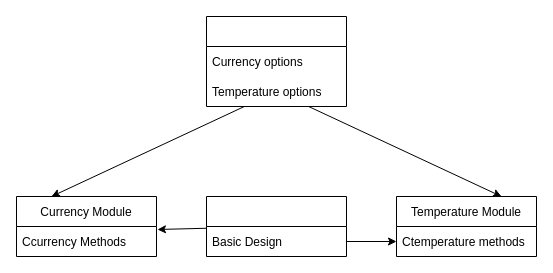
The diagram is 553 pixels wide and 273 high, and some of its shapes have lost their labels. Each missing label, with the box of its shape:
Menu: (206, 16, 346, 106)
Panel UI: (206, 196, 346, 256)
